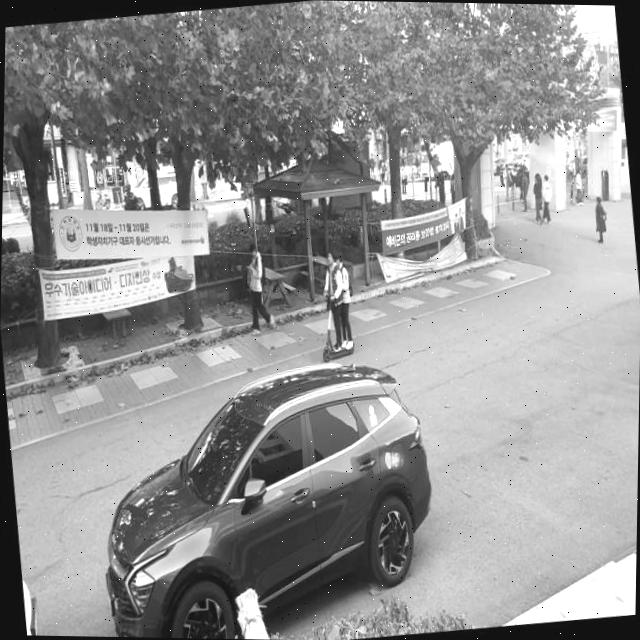bare_head: (325, 250, 339, 271), (334, 253, 347, 274)
human: (320, 250, 344, 355), (329, 252, 353, 349)
kickboard: (316, 342, 364, 361)
